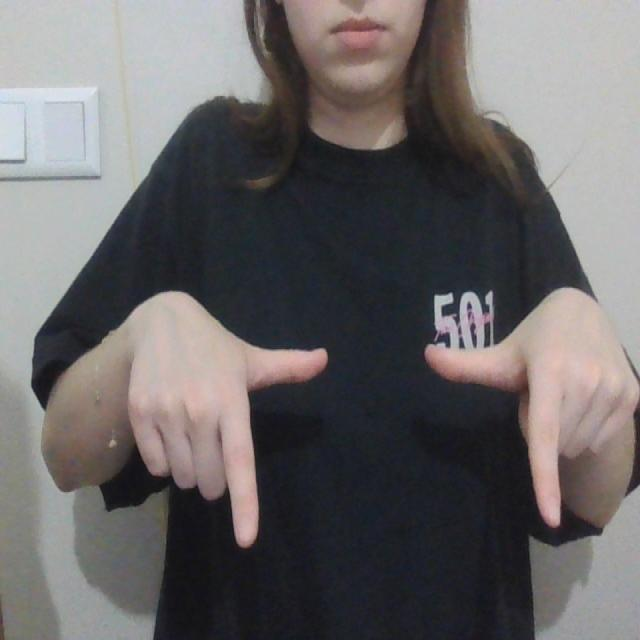Nerede: (188, 326, 574, 548)
